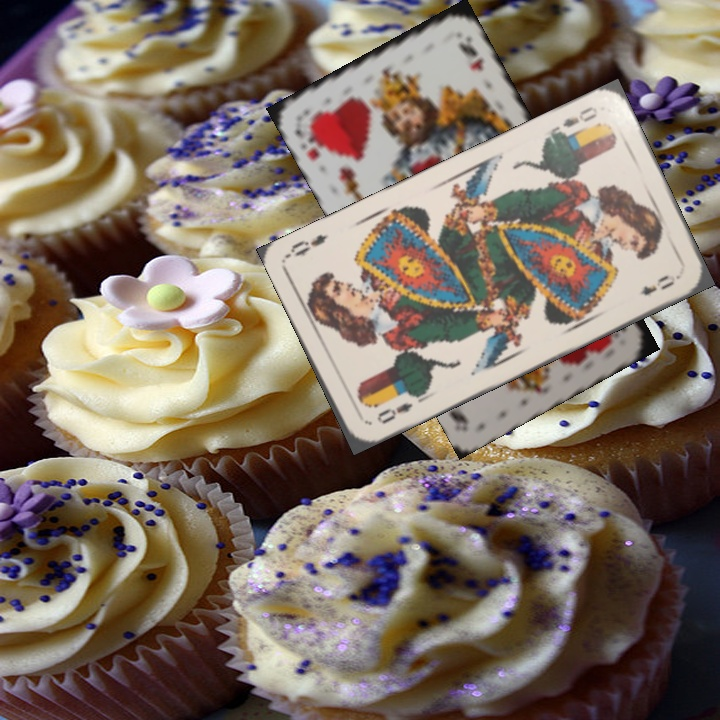EO: (548, 102, 601, 140), (372, 398, 415, 427)
HK: (291, 119, 322, 163)
